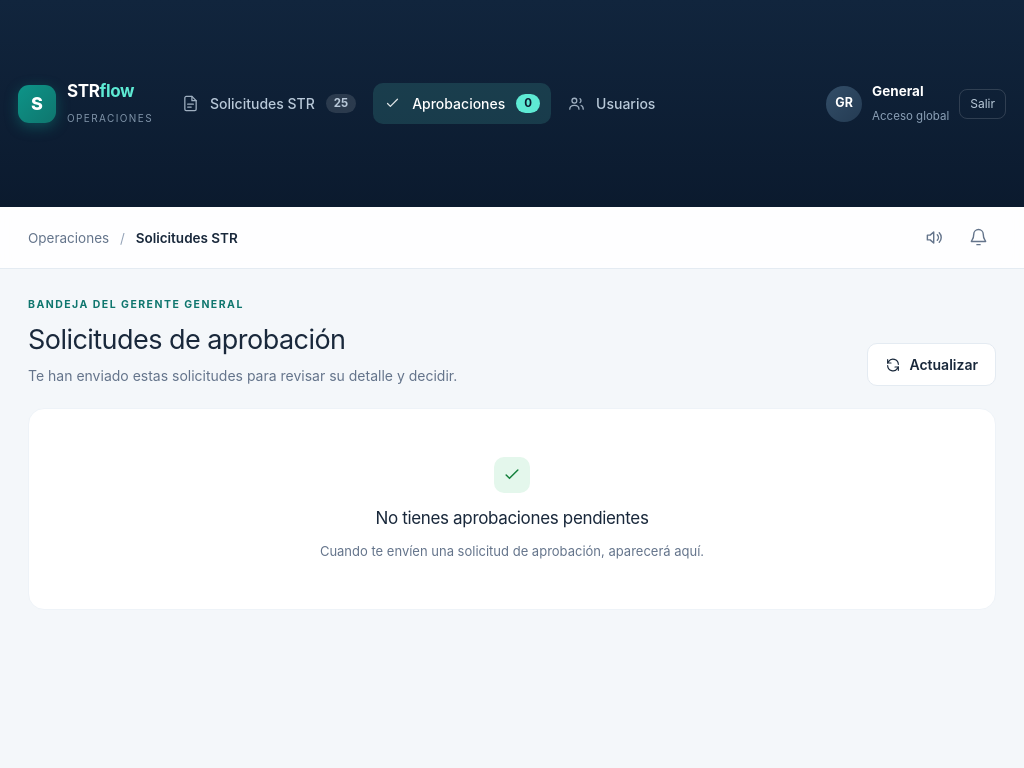
Test: paginación de la tabla › abre gestión de usuarios y oculta opciones sin implementar
Click the link "Usuarios".
click(612, 104)  # box [568, 95, 655, 112]
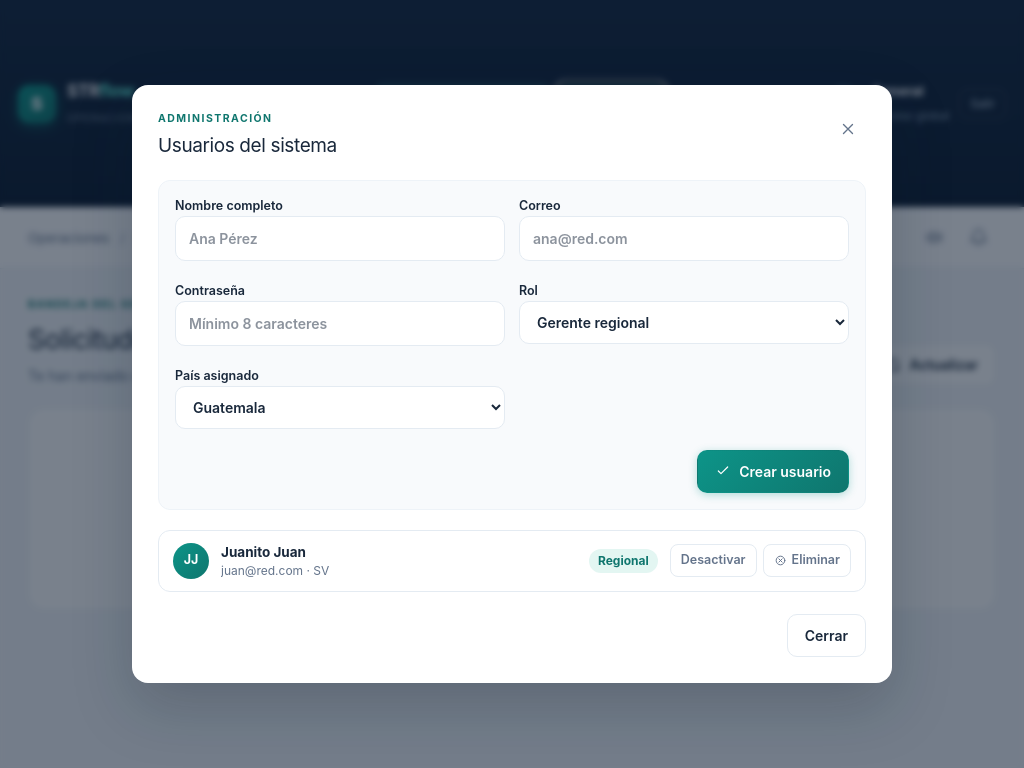
Check: the heading "Usuarios del sistema" is shown, box [158, 132, 337, 160]
